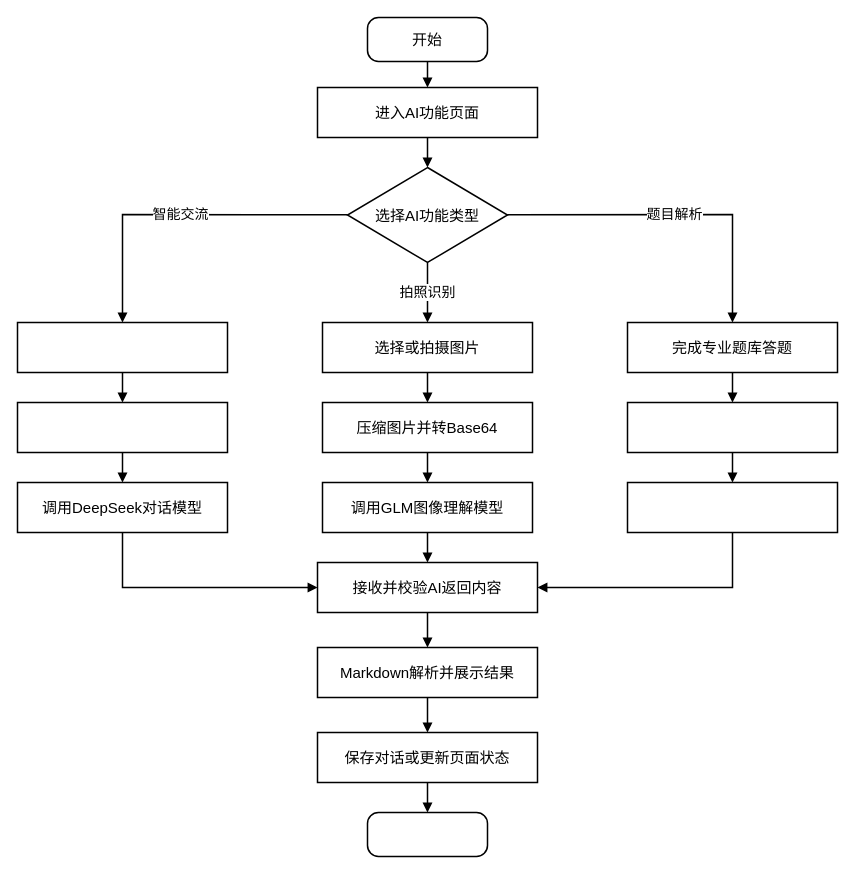
Image size: 856x875. Some labels were removed from this diagram. The centre of each missing label's shape, as x and y in pixels:
生成题目解析Prompt: the point at 732,427
组织messages上下文: the point at 122,427
结束: the point at 427,834
调用DeepSeek解析模型: the point at 732,507
输入文本问题: the point at 122,347
